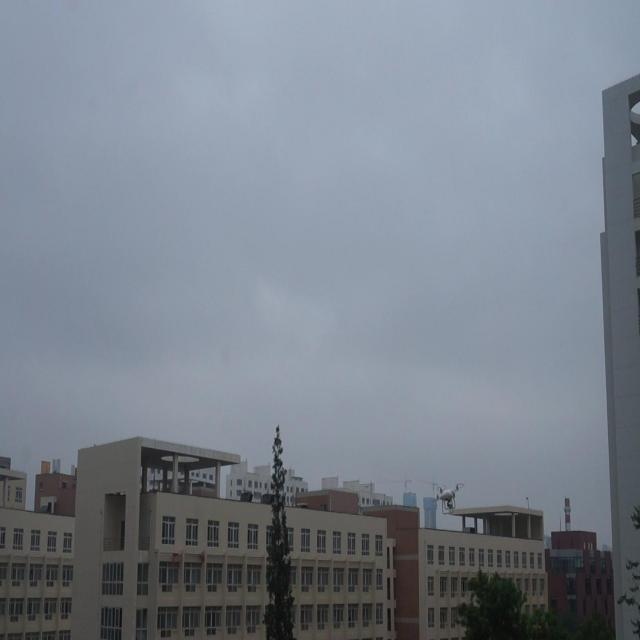UAV: (436, 483, 465, 514)
